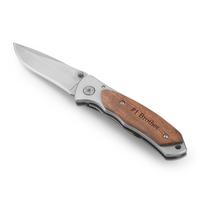knife: (7, 38, 185, 167)
